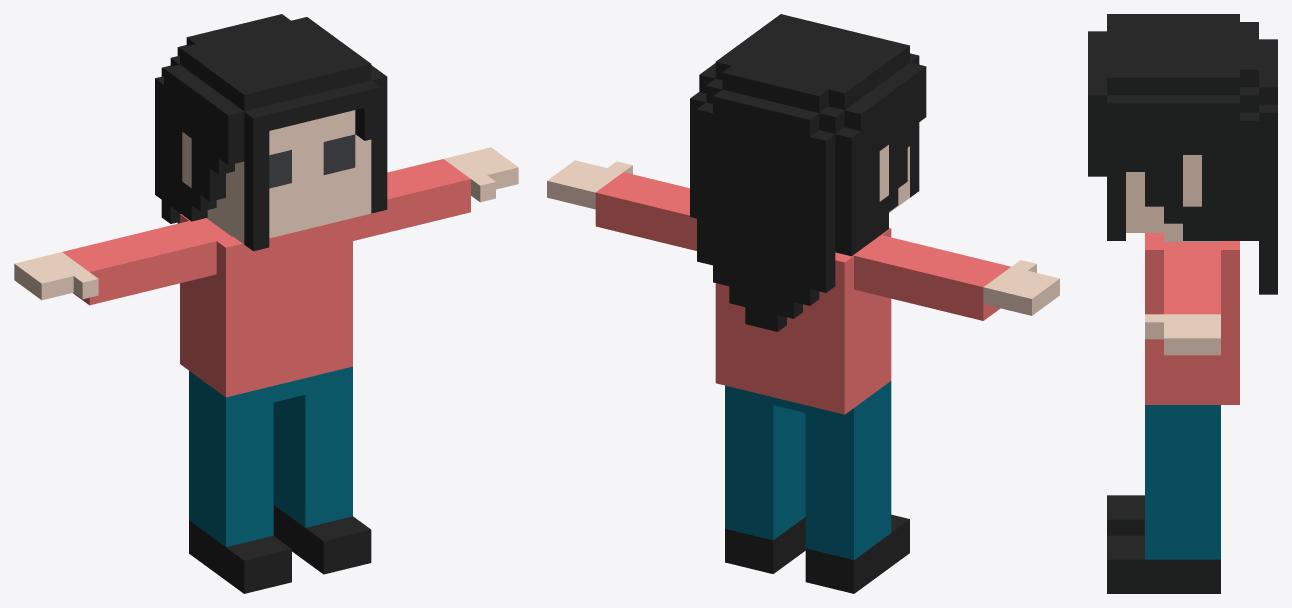
Rendered from student-4.obj.
3 renders of one model, left to right at view 1: azimuth 30°, elevation 25°; view 2: azimuth 150°, elevation 25°; view 3: azimuth 270°, elevation 25°, orthographic. The views are drawn at different scales.
Size of the model in its own units: 3 by 3 by 1.
Materials: 1 (1 with a texture image).
